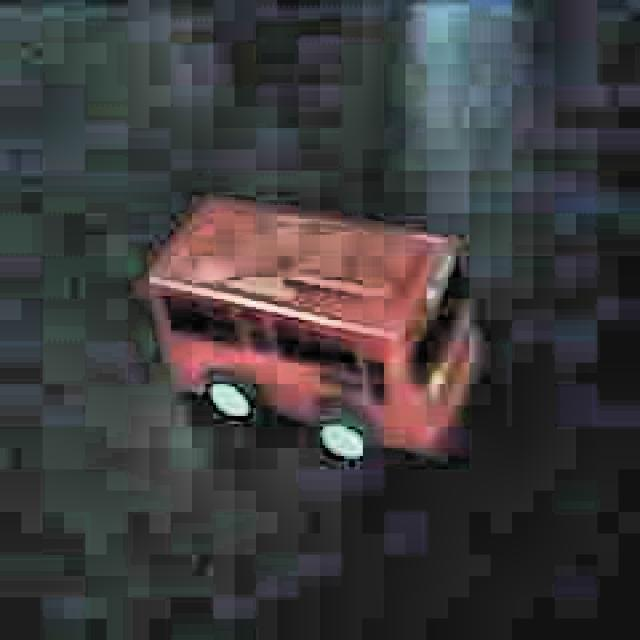bus: (145, 187, 485, 477)
